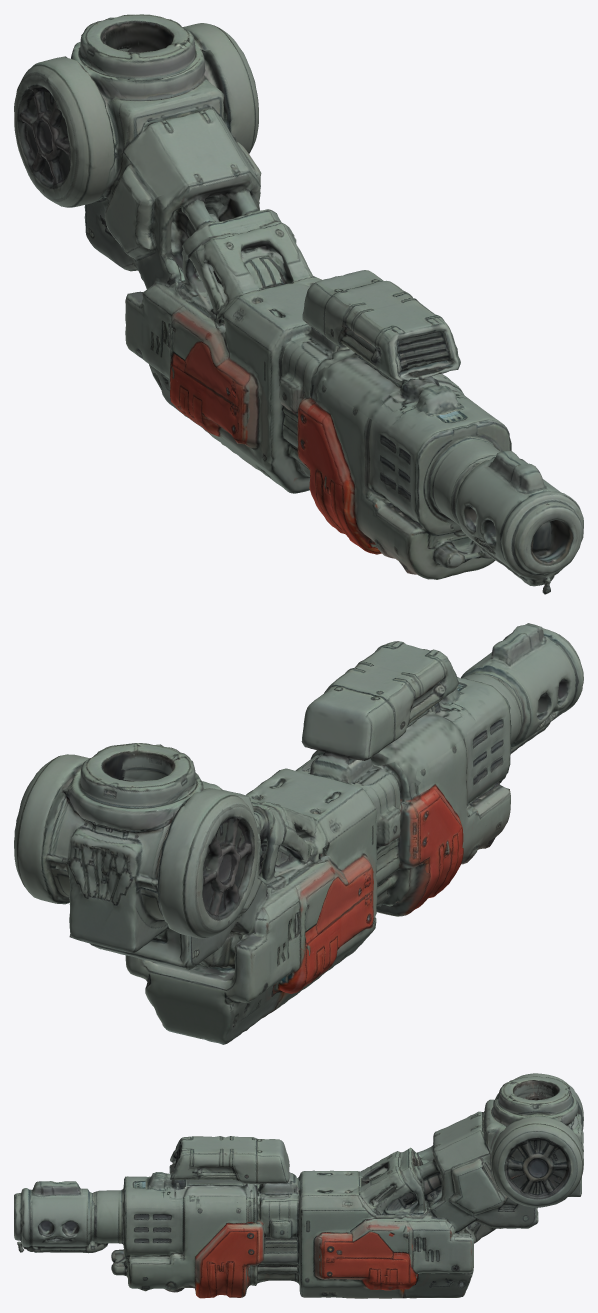
File: BossArmRifle.glb
3 views of the same model, one above another, from view 1: azimuth 30°, elevation 25°; view 2: azimuth 150°, elevation 25°; view 3: azimuth 270°, elevation 25° (orthographic). The views are drawn at different scales.
Parts seen in each view (by area): view 1: texture_mapping; view 2: texture_mapping; view 3: texture_mapping.
Part boxes in pixels (x1=…): texture_mapping: x1=14, y1=14, x2=583, y2=594; texture_mapping: x1=14, y1=623, x2=583, y2=1044; texture_mapping: x1=14, y1=1073, x2=583, y2=1298.
Bounding box in the file's own units: 0.2365 × 0.3958 × 0.9977.
Materials: 1 (1 with a texture image).
